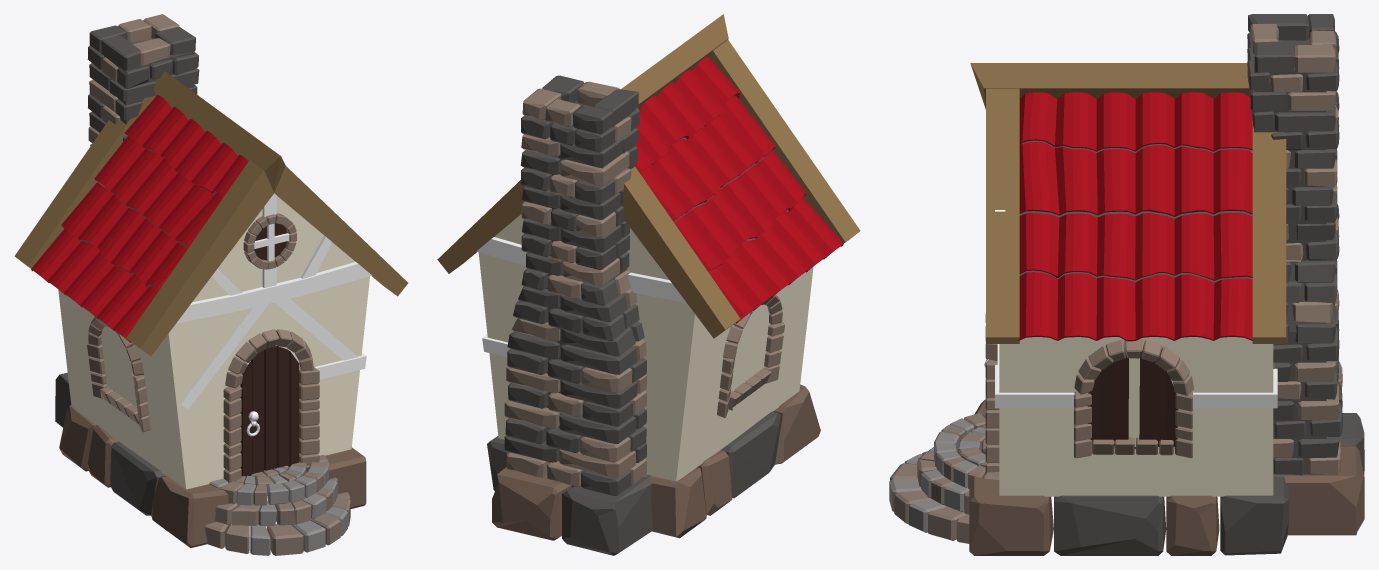
File: house.glb
3 views of the same model, side by side, from view 1: azimuth 30°, elevation 25°; view 2: azimuth 150°, elevation 25°; view 3: azimuth 270°, elevation 25° (orthographic). The views are drawn at different scales.
Visible parts, largest first — view 1: roof Frame; view 2: roof Frame; view 3: roof Frame.
Part boxes in pixels (<box>): roof Frame: <box>14,14,408,555</box>; roof Frame: <box>437,14,860,555</box>; roof Frame: <box>889,14,1364,555</box>.
Bounding box in the file's own units: 6.25 × 8.71 × 7.97.
